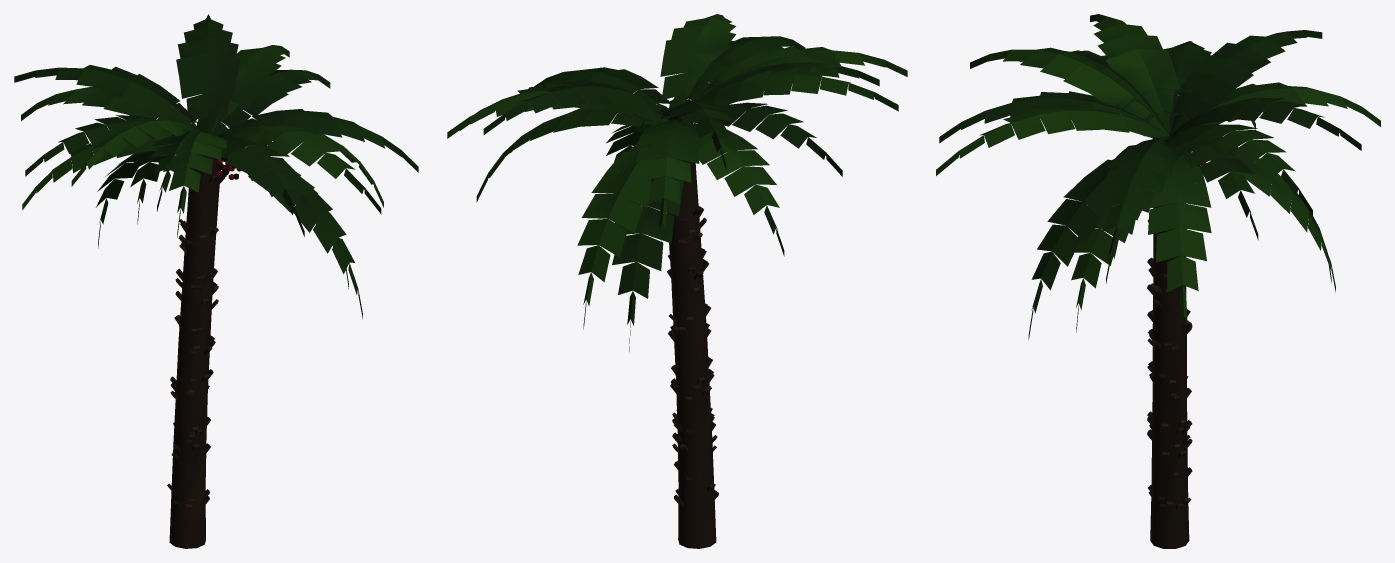
The model's file is fm_palm.glb.
3 views of the same model, side by side, from view 1: azimuth 30°, elevation 25°; view 2: azimuth 150°, elevation 25°; view 3: azimuth 270°, elevation 25° (orthographic). The views are drawn at different scales.
Visible parts, largest first — view 1: fm_palm; view 2: fm_palm; view 3: fm_palm.
Boxes of the visible parts, bbox=[...] form: fm_palm: bbox=[14, 14, 418, 548]; fm_palm: bbox=[447, 14, 907, 548]; fm_palm: bbox=[936, 14, 1380, 548].
Size of the model in its own units: 7.09 by 8.58 by 7.28.
